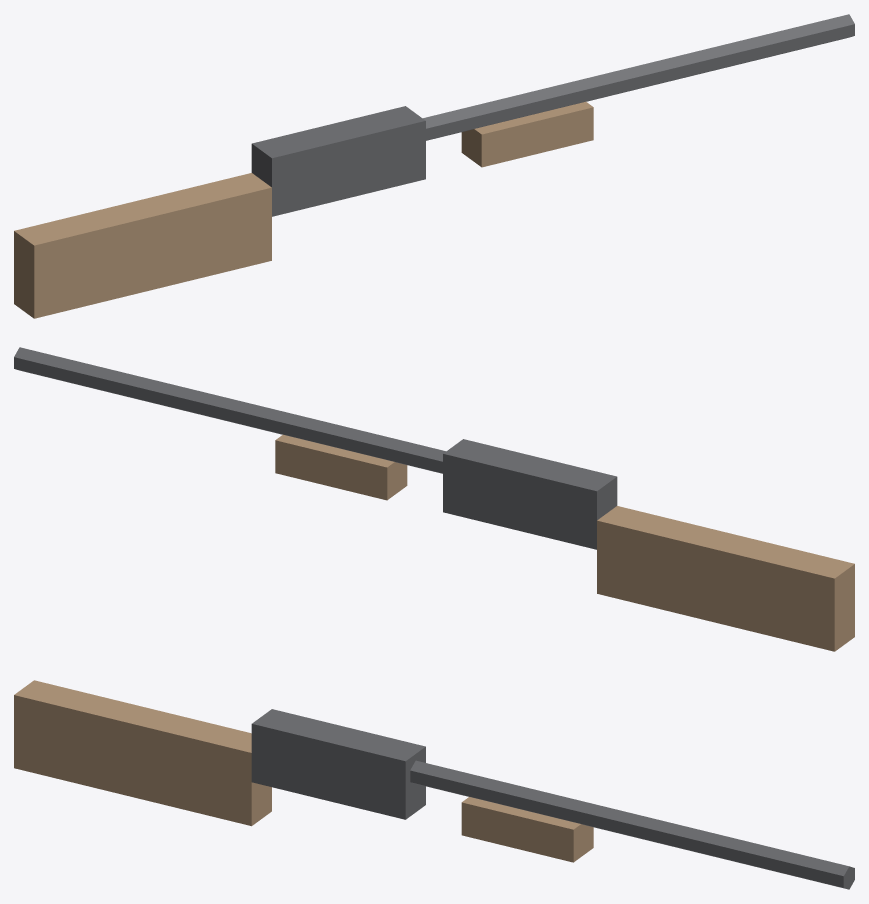
Rendered from held_weapon_mp133.glb.
The picture shows the model from 3 angles, top to bottom: view 1: azimuth 30°, elevation 25°; view 2: azimuth 150°, elevation 25°; view 3: azimuth 330°, elevation 25°; orthographic projection.
Parts seen in each view (by area): view 1: held_weapon_mp133; view 2: held_weapon_mp133; view 3: held_weapon_mp133.
Part boxes in pixels (x1,y1,x2,y2): held_weapon_mp133: (14,14,854,318); held_weapon_mp133: (14,347,854,651); held_weapon_mp133: (14,680,854,889).
Bounding box in the file's own units: 1.18 × 0.14 × 0.05.
